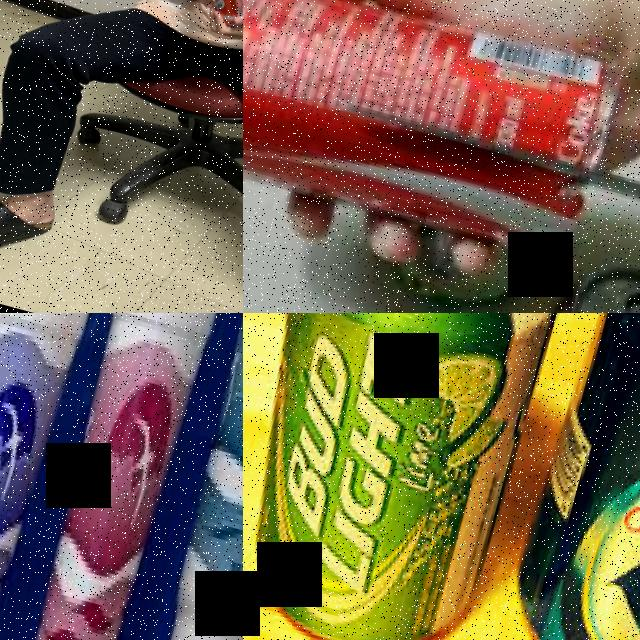can: (243, 313, 606, 640), (243, 0, 638, 260), (489, 313, 640, 640), (194, 0, 243, 30)
cup: (0, 313, 243, 640), (119, 313, 243, 640), (0, 313, 108, 640)
